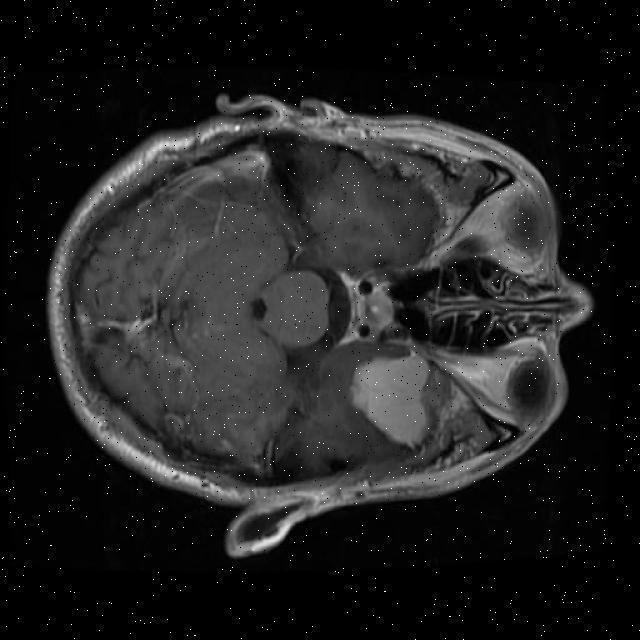Meningioma: (353, 352, 430, 446)
